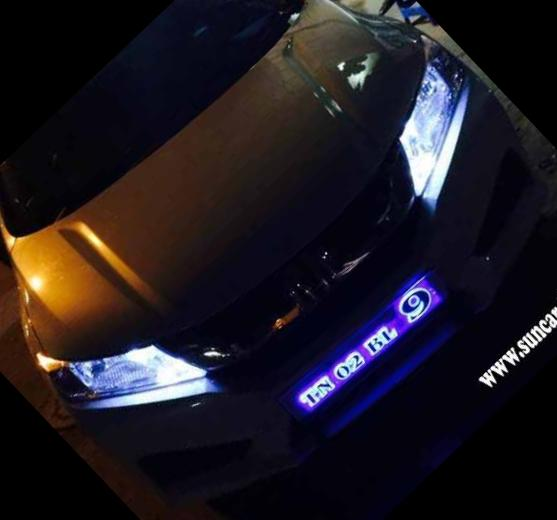plate: (273, 253, 462, 438)
